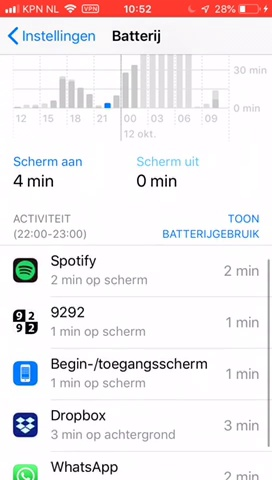activity: (4, 209, 94, 242)
app: (6, 251, 264, 291), (7, 301, 265, 341), (7, 352, 265, 392), (6, 403, 264, 443)
